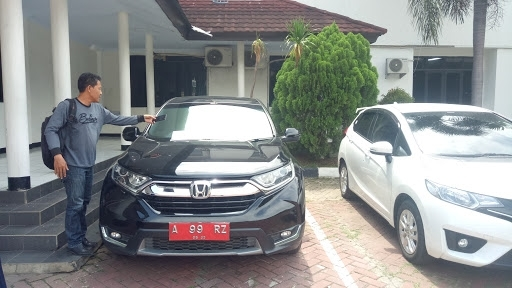plate: (169, 221, 230, 240)
